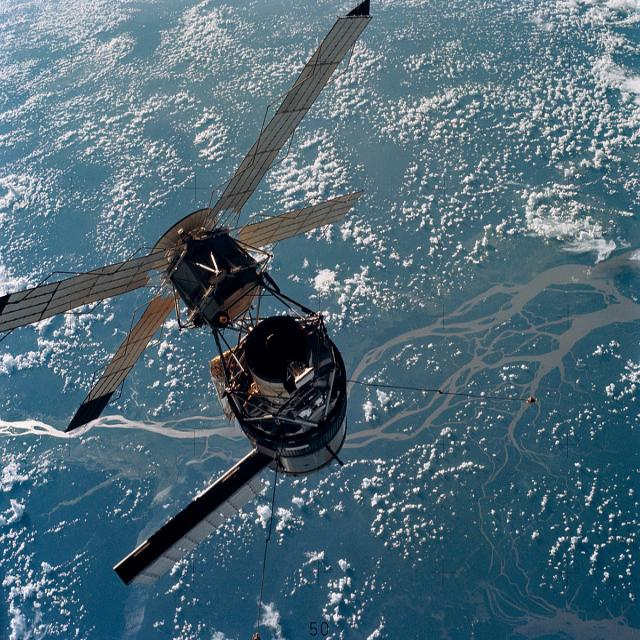satellite: (0, 0, 381, 610)
